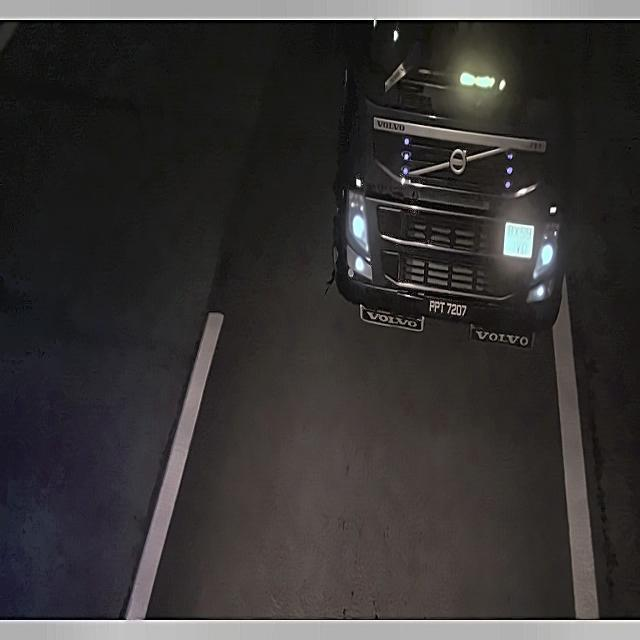car: (424, 297, 473, 323)
